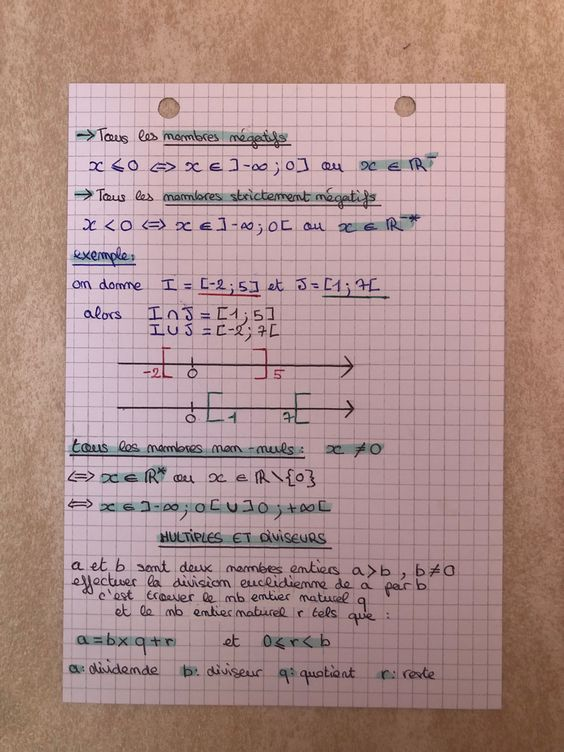page: (68, 85, 501, 706)
